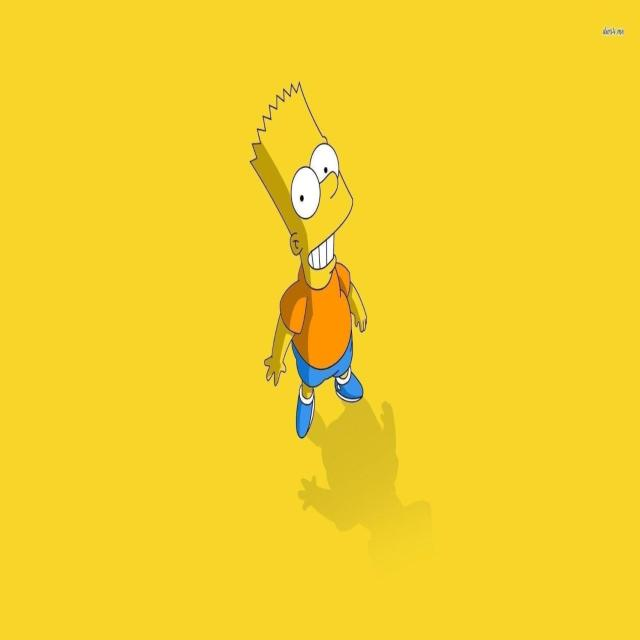Bart Simpson: (247, 79, 355, 295)
